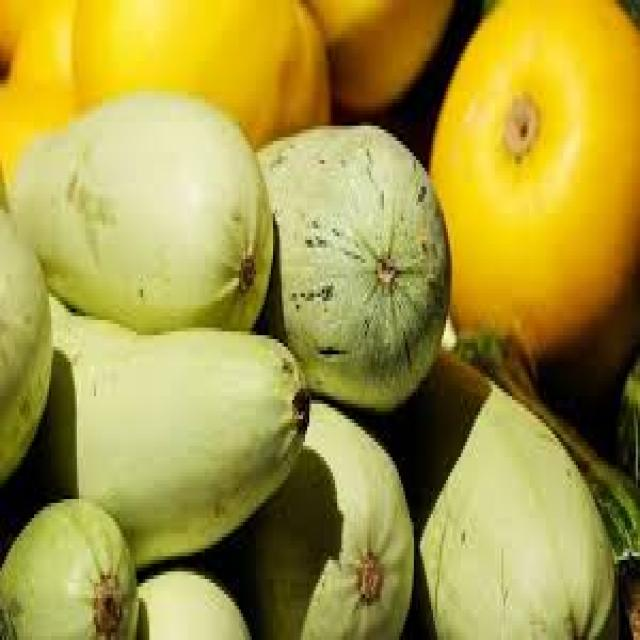vegetable marrow: (35, 244, 314, 566), (234, 105, 483, 428), (19, 75, 293, 367), (390, 332, 631, 640), (248, 377, 410, 640), (0, 489, 155, 640), (135, 514, 286, 640), (0, 207, 55, 487)
